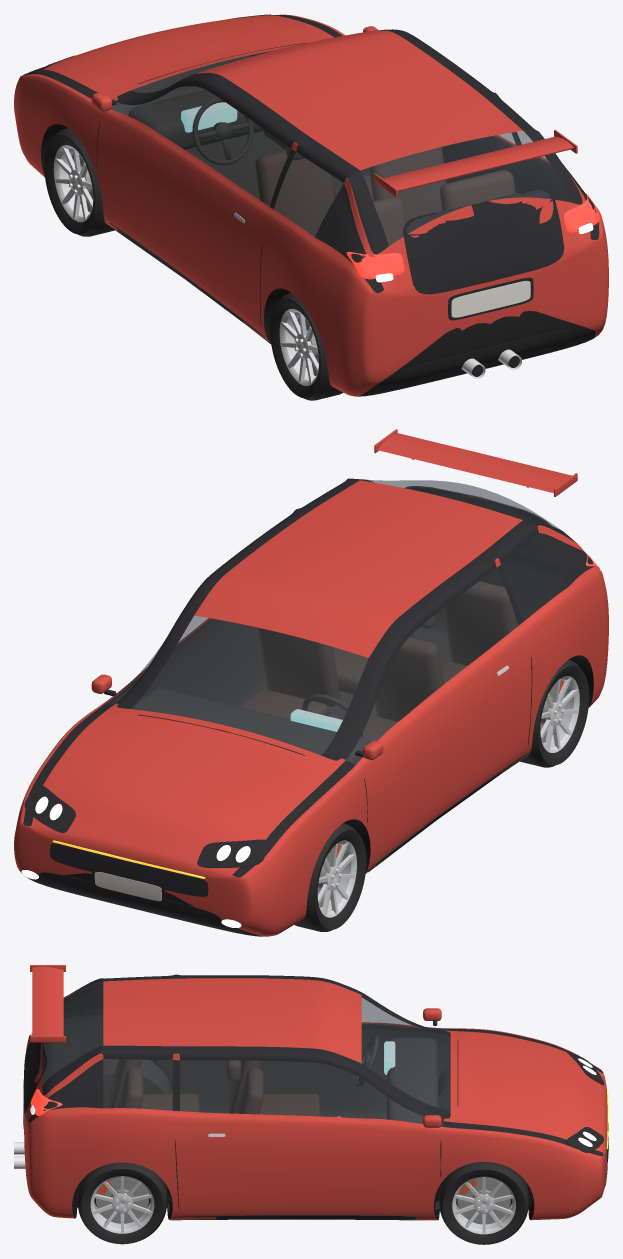
Rendered from KestrelHatch.glb.
The picture shows the model from 3 angles, top to bottom: view 1: azimuth 30°, elevation 25°; view 2: azimuth 150°, elevation 25°; view 3: azimuth 270°, elevation 25°; orthographic projection. The views are drawn at different scales.
Parts seen in each view (by area): view 1: KestrelHatch_Body, KestrelHatch_Glass, KestrelHatch_Interior, KestrelHatch_Wheel_FL, KestrelHatch_Wheel_RL, KestrelHatch_Lights_Tail, KestrelHatch_Steering; view 2: KestrelHatch_Body, KestrelHatch_Glass, KestrelHatch_Interior, KestrelHatch_Wheel_FL, KestrelHatch_Wheel_RL, KestrelHatch_Lights_Head; view 3: KestrelHatch_Body, KestrelHatch_Glass, KestrelHatch_Interior, KestrelHatch_Wheel_FR, KestrelHatch_Wheel_RR, KestrelHatch_Steering, KestrelHatch_Lights_Tail.
Part boxes in pixels (bbox=[...]): KestrelHatch_Body: bbox=[14, 14, 608, 396]; KestrelHatch_Glass: bbox=[111, 47, 569, 245]; KestrelHatch_Interior: bbox=[111, 51, 569, 245]; KestrelHatch_Wheel_FL: bbox=[44, 128, 114, 236]; KestrelHatch_Wheel_RL: bbox=[270, 292, 343, 400]; KestrelHatch_Lights_Tail: bbox=[346, 193, 600, 279]; KestrelHatch_Steering: bbox=[192, 97, 253, 165]; KestrelHatch_Body: bbox=[14, 429, 608, 936]; KestrelHatch_Glass: bbox=[106, 479, 567, 764]; KestrelHatch_Interior: bbox=[107, 493, 567, 764]; KestrelHatch_Wheel_FL: bbox=[294, 823, 366, 931]; KestrelHatch_Wheel_RL: bbox=[520, 659, 589, 767]; KestrelHatch_Lights_Head: bbox=[21, 796, 250, 927]; KestrelHatch_Body: bbox=[14, 965, 608, 1220]; KestrelHatch_Glass: bbox=[42, 982, 450, 1126]; KestrelHatch_Interior: bbox=[42, 981, 529, 1216]; KestrelHatch_Wheel_FR: bbox=[439, 1162, 528, 1244]; KestrelHatch_Wheel_RR: bbox=[77, 1162, 167, 1244]; KestrelHatch_Steering: bbox=[355, 1036, 378, 1087]; KestrelHatch_Lights_Tail: bbox=[31, 1033, 62, 1115].
Size of the model in its own units: 1.86 by 1.5 by 4.2.
